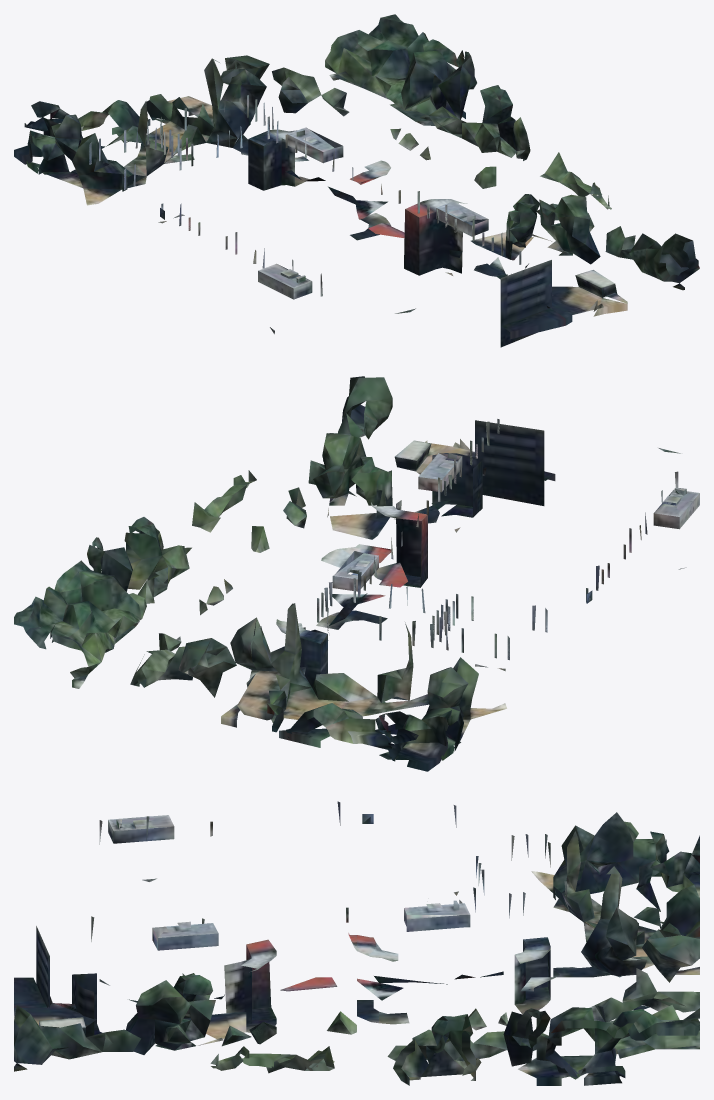
3 views of the same model, one above another, from view 1: azimuth 30°, elevation 25°; view 2: azimuth 150°, elevation 25°; view 3: azimuth 270°, elevation 25° (orthographic). The views are drawn at different scales.
Parts seen in each view (by area): view 1: 304362727043704344_1; view 2: 304362727043704344_1; view 3: 304362727043704344_1.
Boxes of the visible parts, <box> form: 304362727043704344_1: <box>14,14,699,347</box>; 304362727043704344_1: <box>14,376,699,771</box>; 304362727043704344_1: <box>14,801,699,1085</box>.
Size of the model in its own units: 109 by 29.58 by 153.
1 material, 1 textured.
